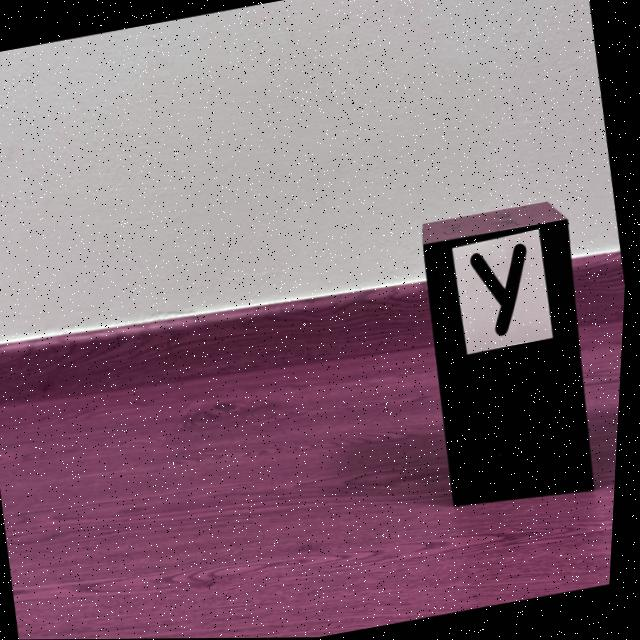Y: (473, 244, 529, 336)
